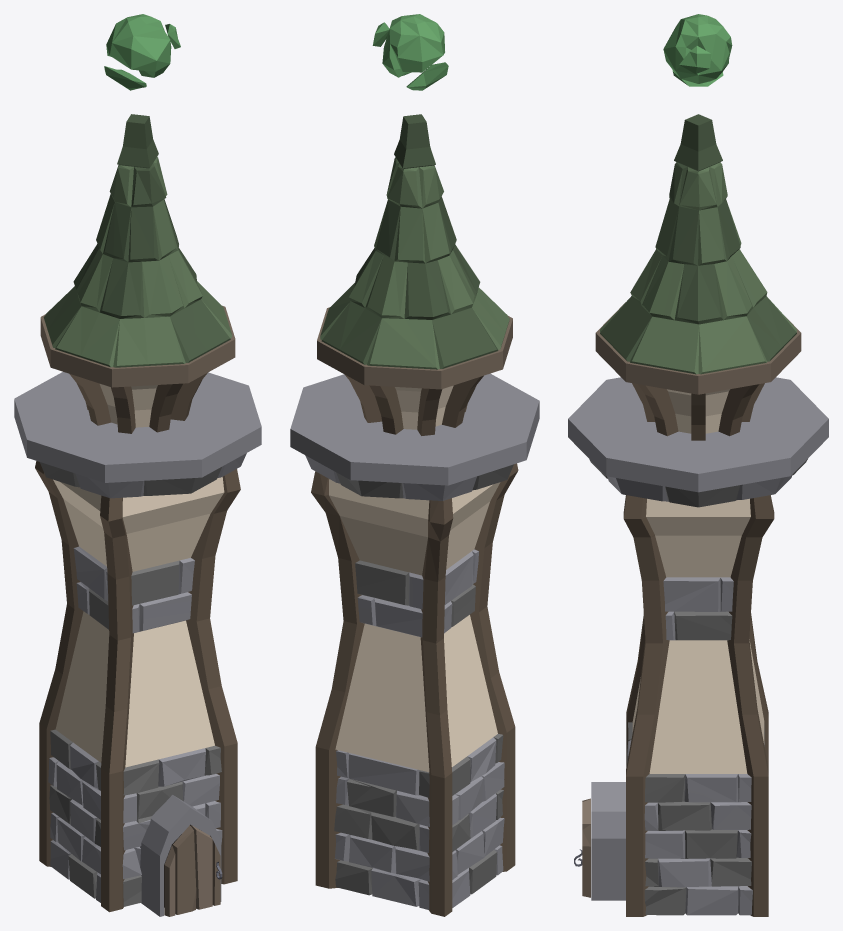
Rendered from Wizard Tower 1.obj.
3 views of the same model, side by side, from view 1: azimuth 30°, elevation 25°; view 2: azimuth 150°, elevation 25°; view 3: azimuth 270°, elevation 25° (orthographic).
Parts seen in each view (by area): view 1: Wizard_tower_LVL_1; view 2: Wizard_tower_LVL_1; view 3: Wizard_tower_LVL_1.
Boxes of the visible parts, x1=… form: Wizard_tower_LVL_1: x1=14, y1=14, x2=261, y2=916; Wizard_tower_LVL_1: x1=290, y1=14, x2=539, y2=916; Wizard_tower_LVL_1: x1=568, y1=14, x2=828, y2=916.
Bounding box in the file's own units: 5.52 × 20.28 × 5.52.
Materials: 1 (1 with a texture image).
